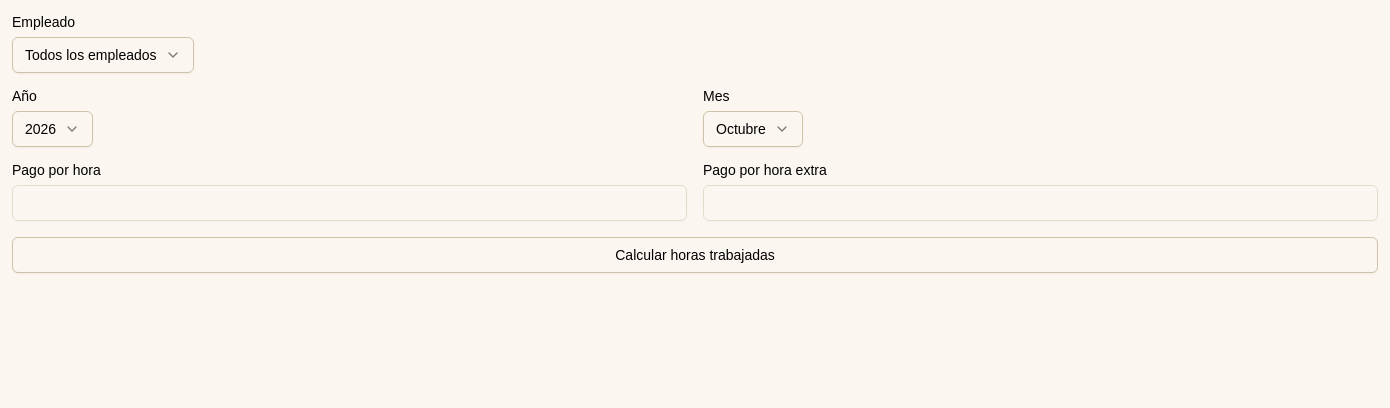
Test: LiquidarTab › calculates overtime hours correctly
Click the button "Calcular horas trabajadas": (695, 255) top-left (12, 237), bottom-right (1378, 273)
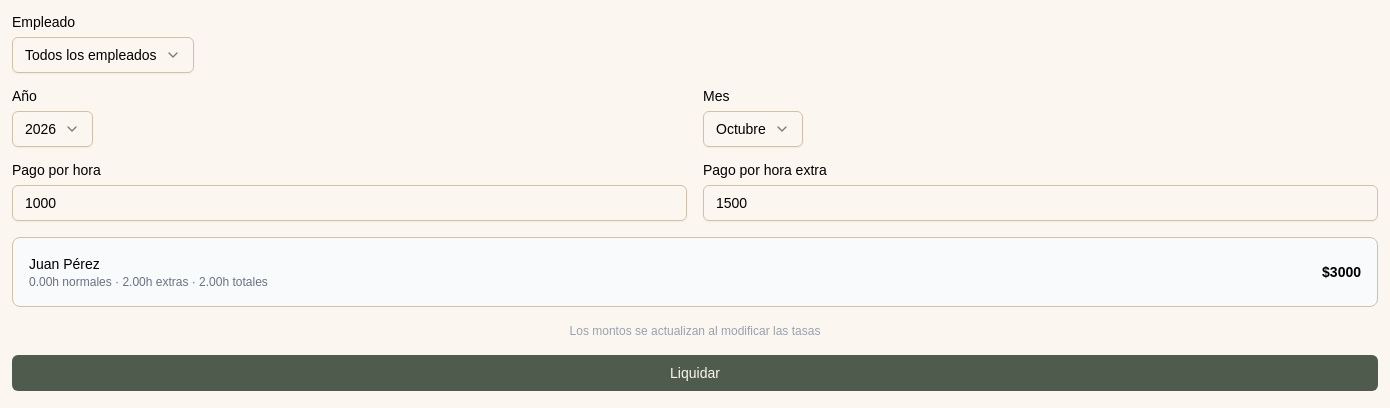
Check: the text "Juan Pérez" is shown, box top-left (29, 256), bottom-right (100, 272)
Check: the text "0.00h normales · 2.00h extras · 2.00h totales" is shown, box top-left (29, 274), bottom-right (268, 290)
